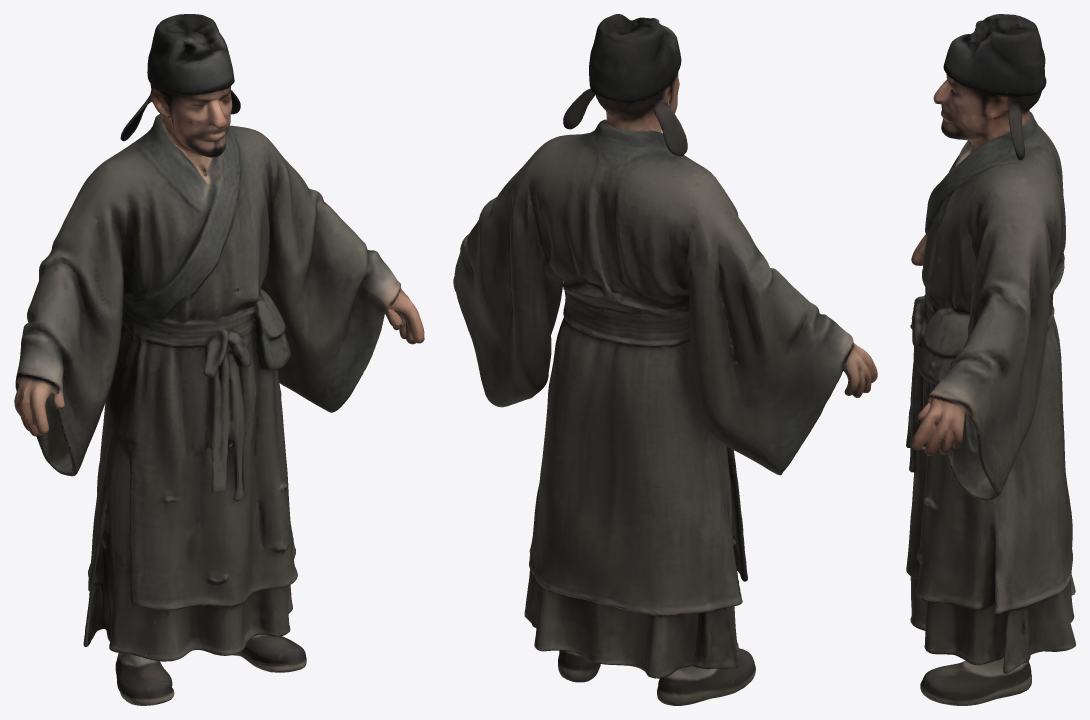
The model's file is merchant-shopkeeper.glb.
The picture shows the model from 3 angles, left to right: view 1: azimuth 30°, elevation 25°; view 2: azimuth 150°, elevation 25°; view 3: azimuth 270°, elevation 25°; orthographic projection. The views are drawn at different scales.
Visible parts, largest first — view 1: world; view 2: world; view 3: world.
Part boxes in pixels (left/top/right/bottom): world: left=14, top=14, right=424, bottom=705; world: left=453, top=14, right=877, bottom=705; world: left=906, top=14, right=1075, bottom=705.
Bounding box in the file's own units: 4.82 × 7.51 × 1.8.
Materials: 1 (1 with a texture image).
